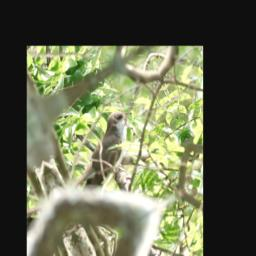Cuckoo: (55, 102, 149, 202)
